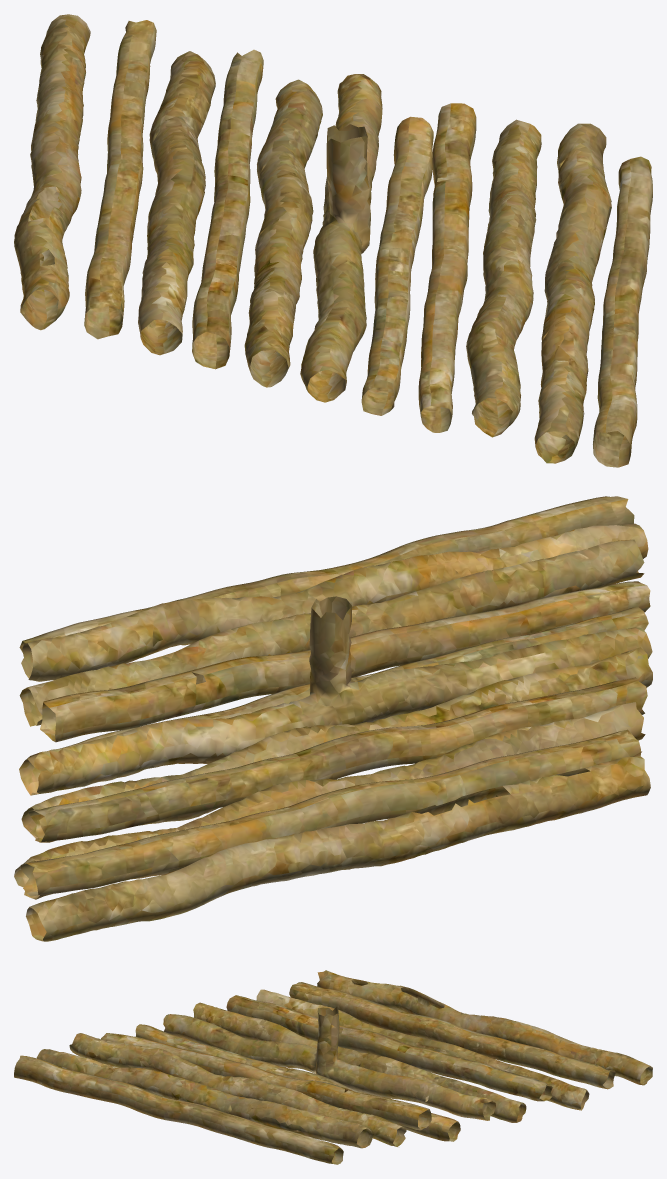
Rendered from NaveeBioSkib17_CleanUp_x02_Stammer4_glb.glb.
3 views of the same model, one above another, from view 1: azimuth 30°, elevation 25°; view 2: azimuth 150°, elevation 25°; view 3: azimuth 270°, elevation 25° (orthographic). The views are drawn at different scales.
Visible parts, largest first — view 1: Stammer; view 2: Stammer; view 3: Stammer.
Part boxes in pixels (<box>): Stammer: <box>14,14,652,467</box>; Stammer: <box>14,496,652,941</box>; Stammer: <box>14,970,652,1164</box>.
Size of the model in its own units: 1.78 by 0.4032 by 2.81.
1 material, 1 textured.
